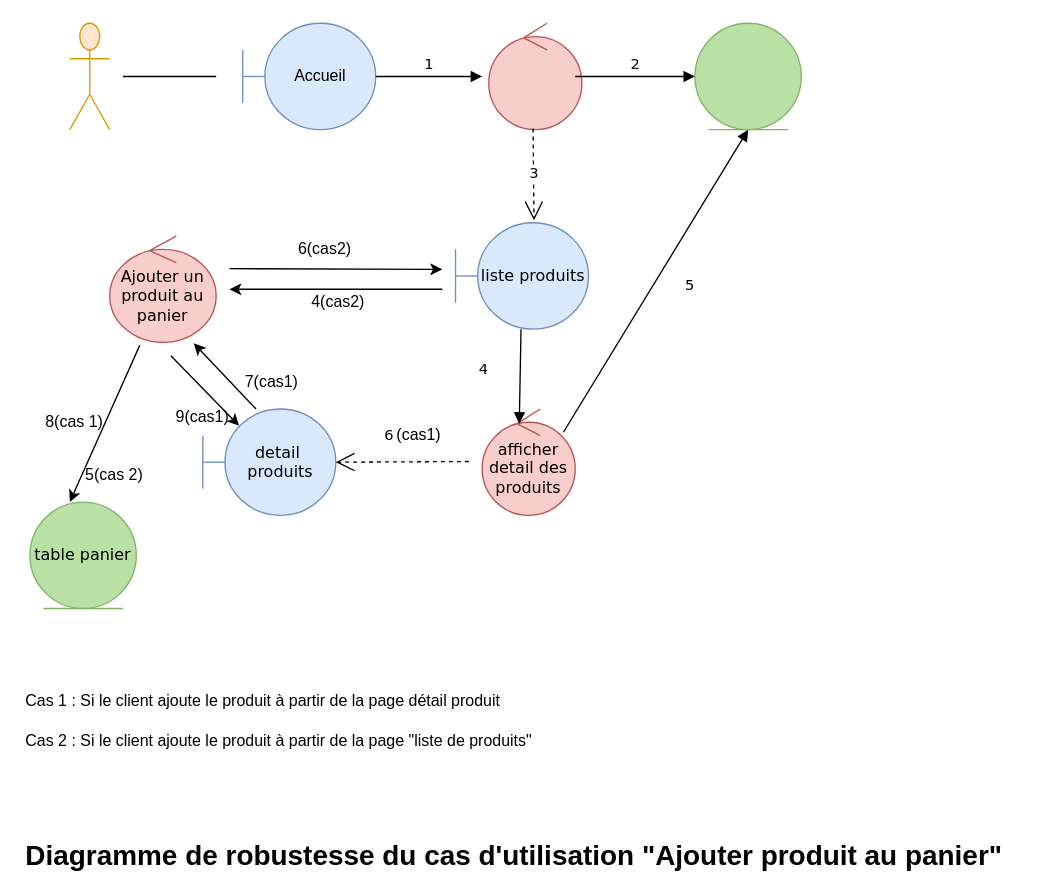
Image size: 1043x895. Some labels were removed from this diagram. The centre of each missing label's shape, as x and y in pixels:
"afficher liste produit" goes at pixel 534 76.
"client" goes at pixel 89 76.
"table produits" goes at pixel 747 76.
